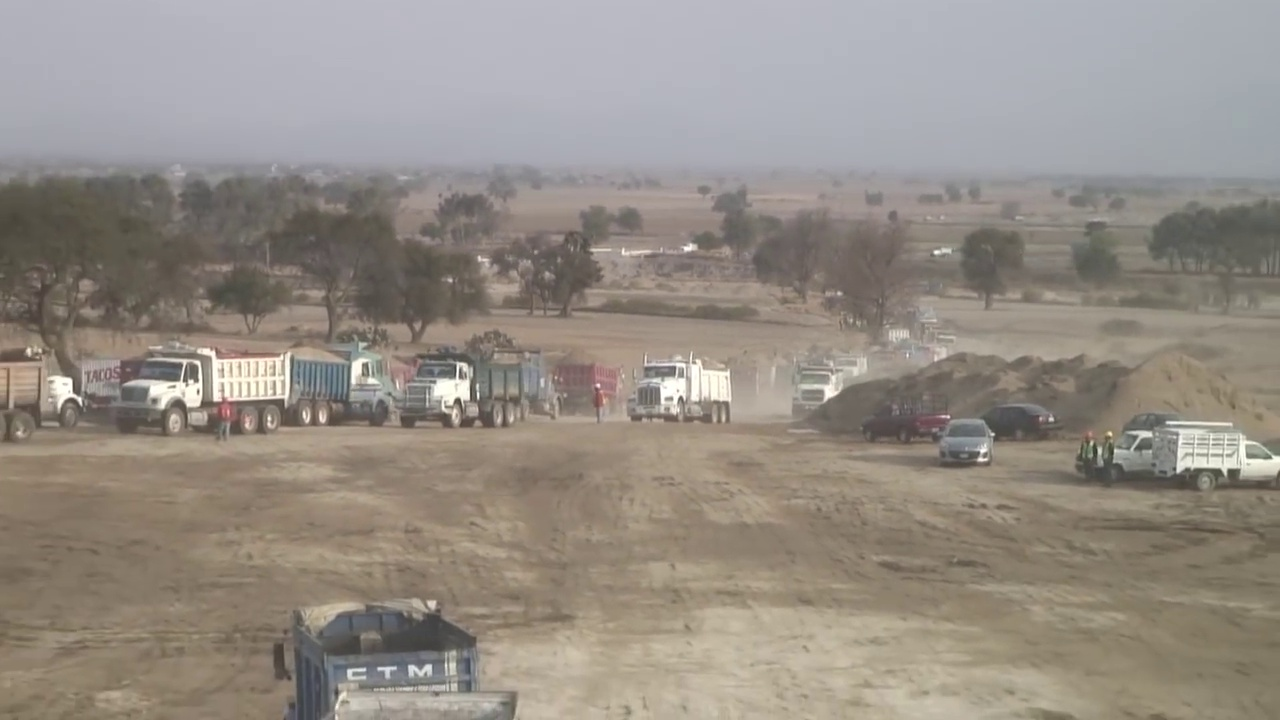car: (980, 400, 1059, 443), (937, 414, 999, 467)
person: (1078, 428, 1099, 478), (218, 392, 230, 445), (1102, 431, 1113, 479), (595, 379, 607, 422)
truck: (272, 599, 490, 715), (120, 347, 285, 432), (401, 349, 538, 427), (1159, 416, 1280, 495), (288, 345, 393, 433), (642, 357, 732, 427), (6, 356, 84, 425), (560, 365, 621, 413), (793, 360, 842, 411)
